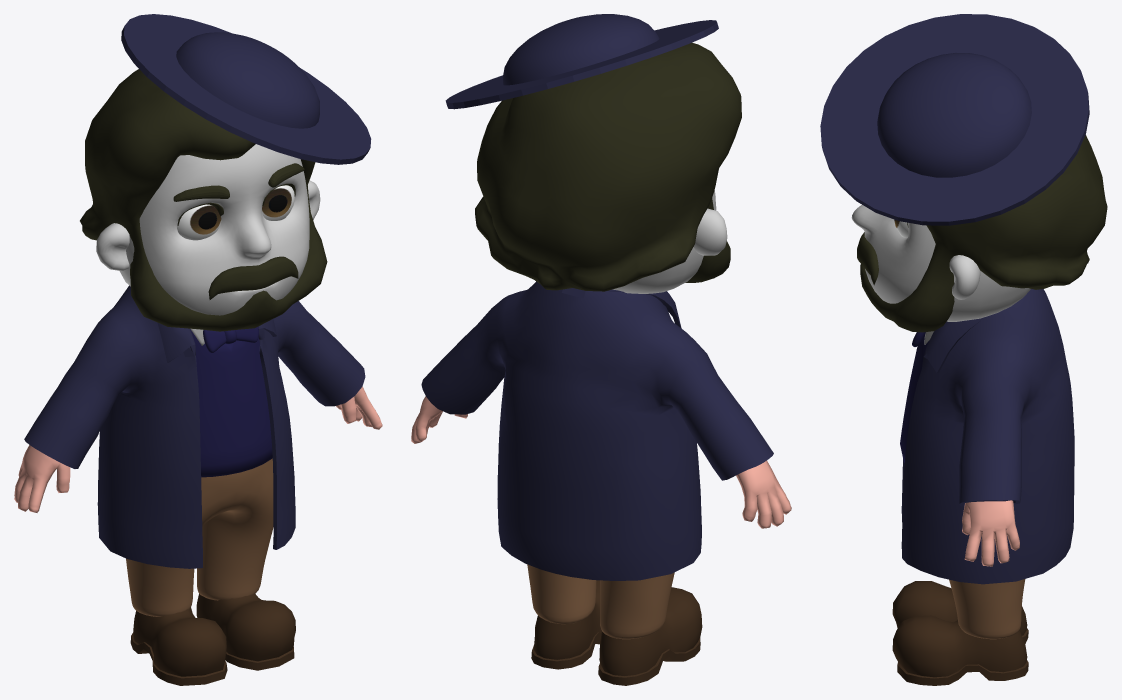
File: monet_F.FBX
3 views of the same model, side by side, from view 1: azimuth 30°, elevation 25°; view 2: azimuth 150°, elevation 25°; view 3: azimuth 270°, elevation 25° (orthographic). The views are drawn at different scales.
Parts seen in each view (by area): view 1: jumper, hat, hair, face, pants, shoes, hand, beard, eye; view 2: jumper, hair, hat, shoes, pants, hand, face; view 3: hat, jumper, hair, shoes, face, pants, hand, beard.
Boxes of the visible parts, x1,y1,x2,y2 form: jumper: [24, 285, 365, 568]; hat: [121, 14, 371, 164]; hair: [80, 69, 327, 331]; face: [96, 144, 320, 315]; pants: [126, 458, 273, 616]; shoes: [130, 593, 295, 685]; hand: [14, 386, 382, 512]; beard: [173, 163, 304, 299]; eye: [177, 185, 294, 240]; jumper: [421, 281, 773, 580]; hair: [475, 42, 741, 291]; hat: [445, 14, 718, 109]; shoes: [531, 580, 702, 685]; pants: [527, 564, 674, 639]; hand: [411, 396, 791, 528]; face: [612, 190, 727, 293]; hat: [820, 14, 1089, 225]; jumper: [900, 289, 1074, 584]; hair: [860, 135, 1107, 332]; shoes: [892, 581, 1028, 685]; face: [851, 205, 1030, 321]; pants: [949, 579, 1025, 639]; hand: [962, 500, 1019, 566]; beard: [857, 232, 878, 285].
Bounding box in the file's own units: 148 × 244 × 104.
